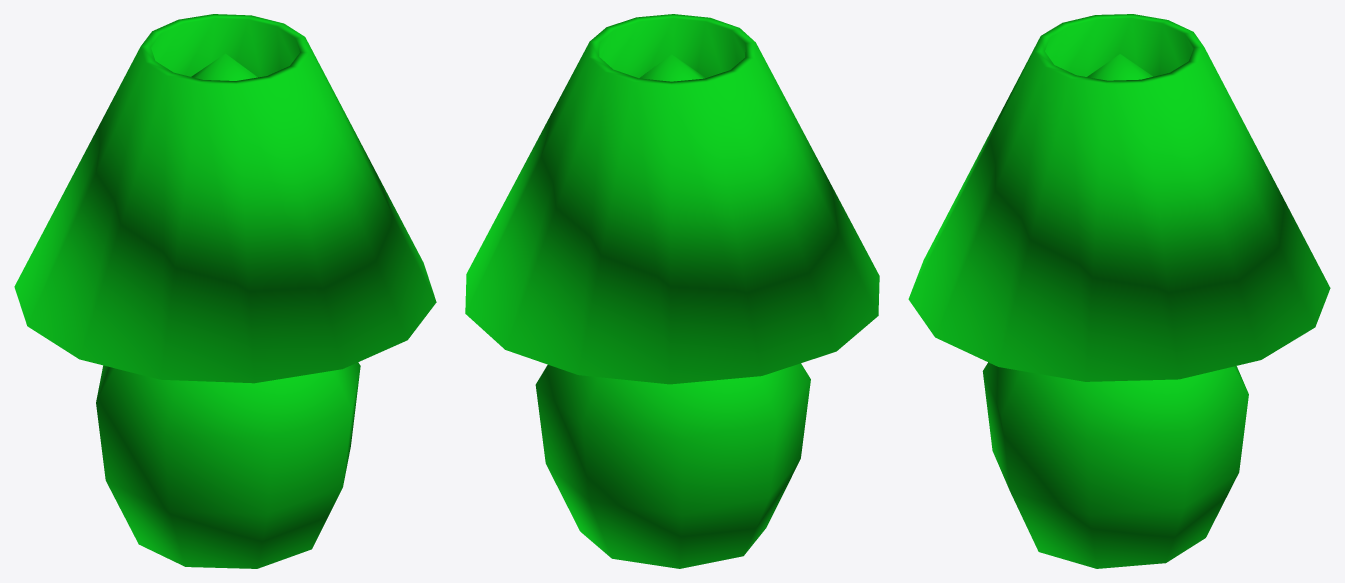
Rendered from lamp.fbx.
3 renders of one model, left to right at view 1: azimuth 30°, elevation 25°; view 2: azimuth 150°, elevation 25°; view 3: azimuth 270°, elevation 25°, orthographic.
Visible parts, largest first — view 1: Items.007; view 2: Items.007; view 3: Items.007.
Boxes of the visible parts, bbox=[...] form: Items.007: bbox=[14, 14, 436, 568]; Items.007: bbox=[465, 14, 879, 568]; Items.007: bbox=[908, 14, 1330, 568].
Bounding box in the file's own units: 79.44 × 101 × 80.33.
